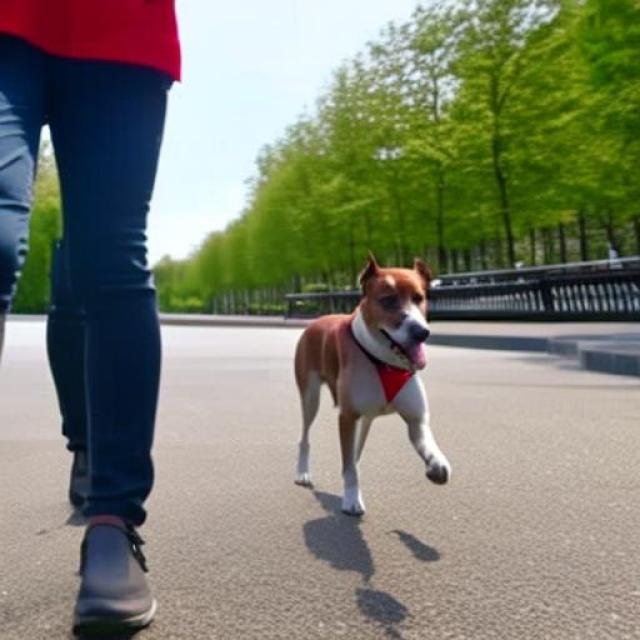Unleashed_Dog: (0, 85, 451, 517)
